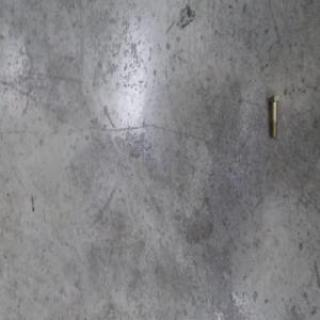Bolttrack_idkeyframe: (268, 94, 280, 139)
